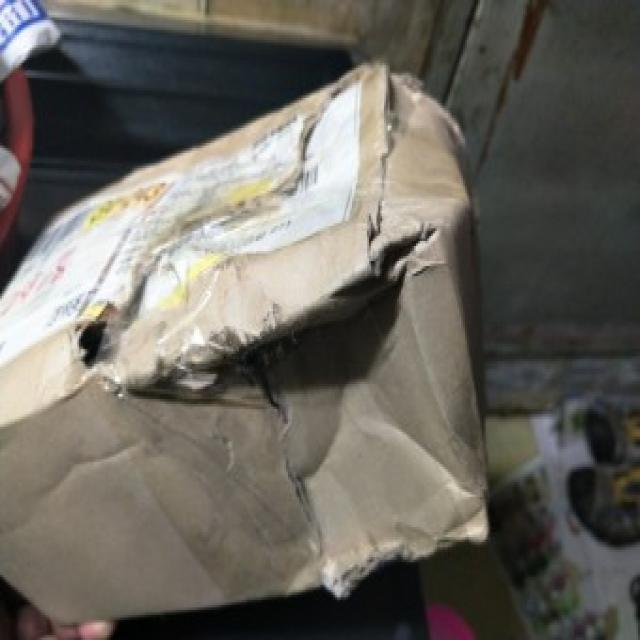hole: (62, 315, 124, 384)
